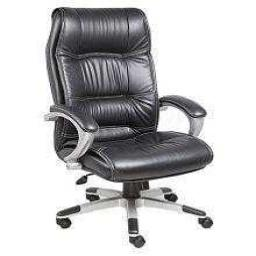Chair: (46, 12, 215, 246)
